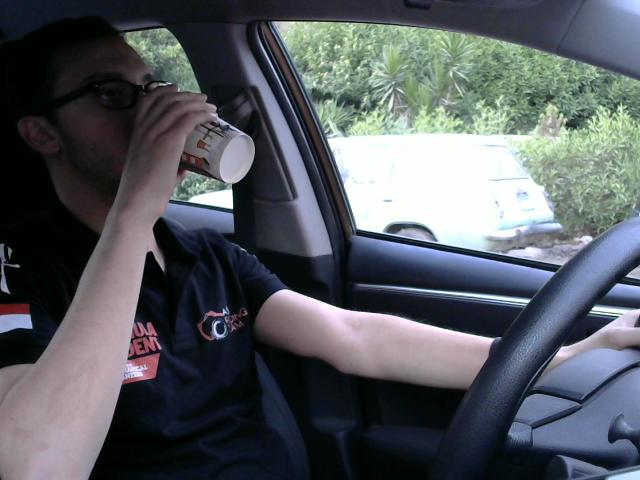Drinking: (133, 87, 263, 186)
